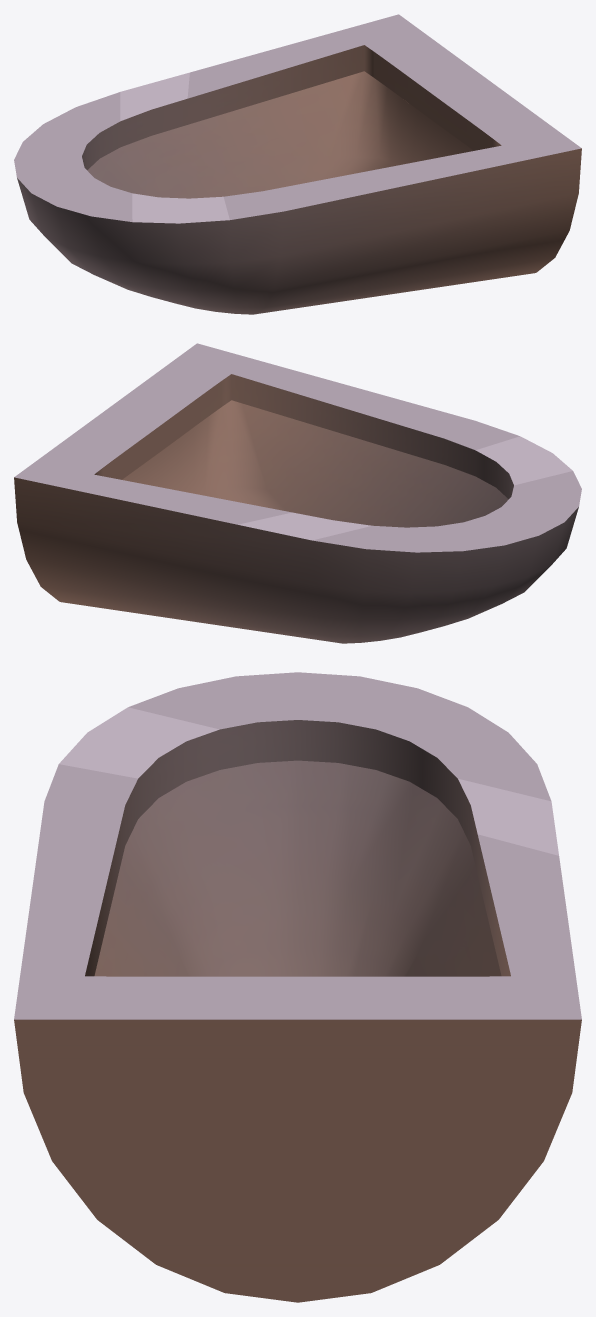
File: Toilet.fbx
The picture shows the model from 3 angles, top to bottom: view 1: azimuth 30°, elevation 25°; view 2: azimuth 150°, elevation 25°; view 3: azimuth 270°, elevation 25°; orthographic projection. The views are drawn at different scales.
Visible parts, largest first — view 1: Toilet_Mexican; view 2: Toilet_Mexican; view 3: Toilet_Mexican.
Part boxes in pixels (x1,y1,x2,y2): Toilet_Mexican: [14, 14, 581, 314]; Toilet_Mexican: [14, 343, 581, 643]; Toilet_Mexican: [14, 672, 581, 1302].
Bounding box in the file's own units: 72.88 × 27.7 × 50.37.
